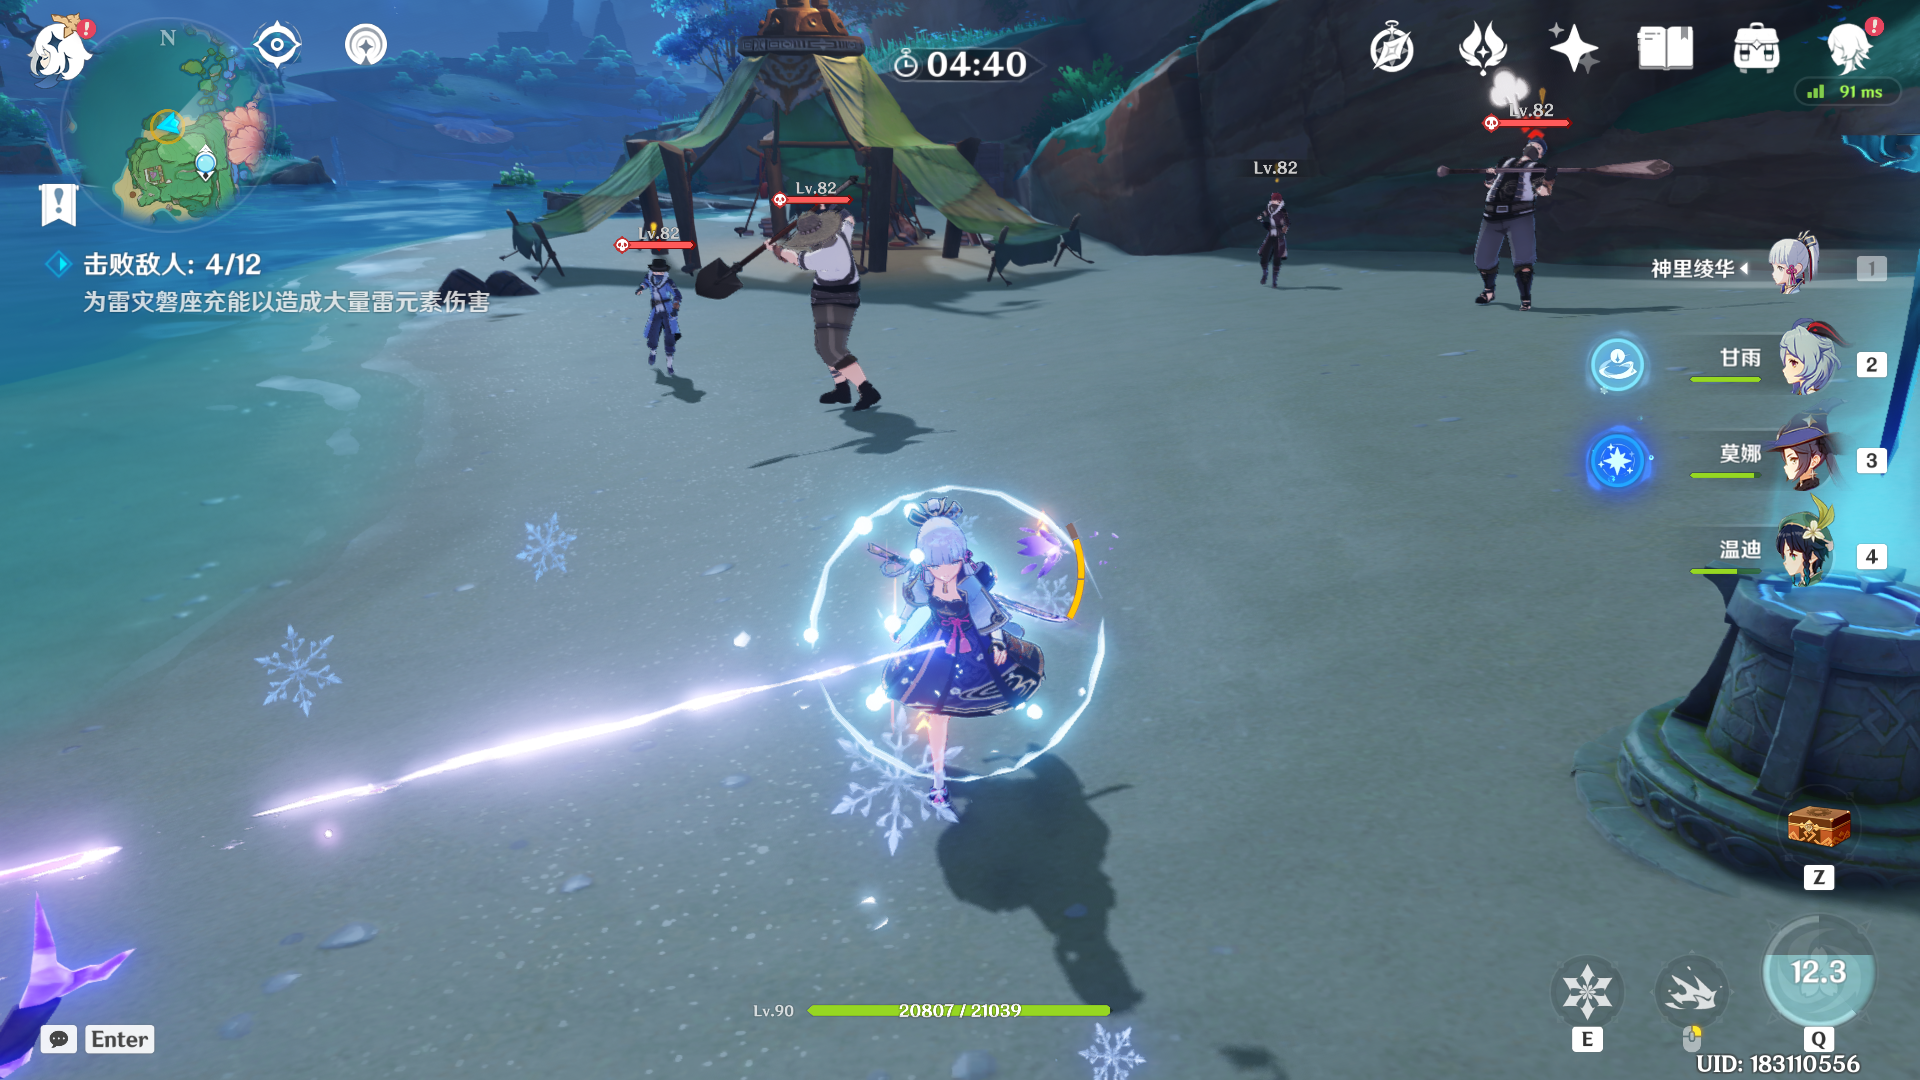character: (832, 485, 1129, 835)
robber: (1427, 112, 1590, 342), (762, 203, 905, 414), (604, 223, 715, 392), (1216, 175, 1311, 306)
